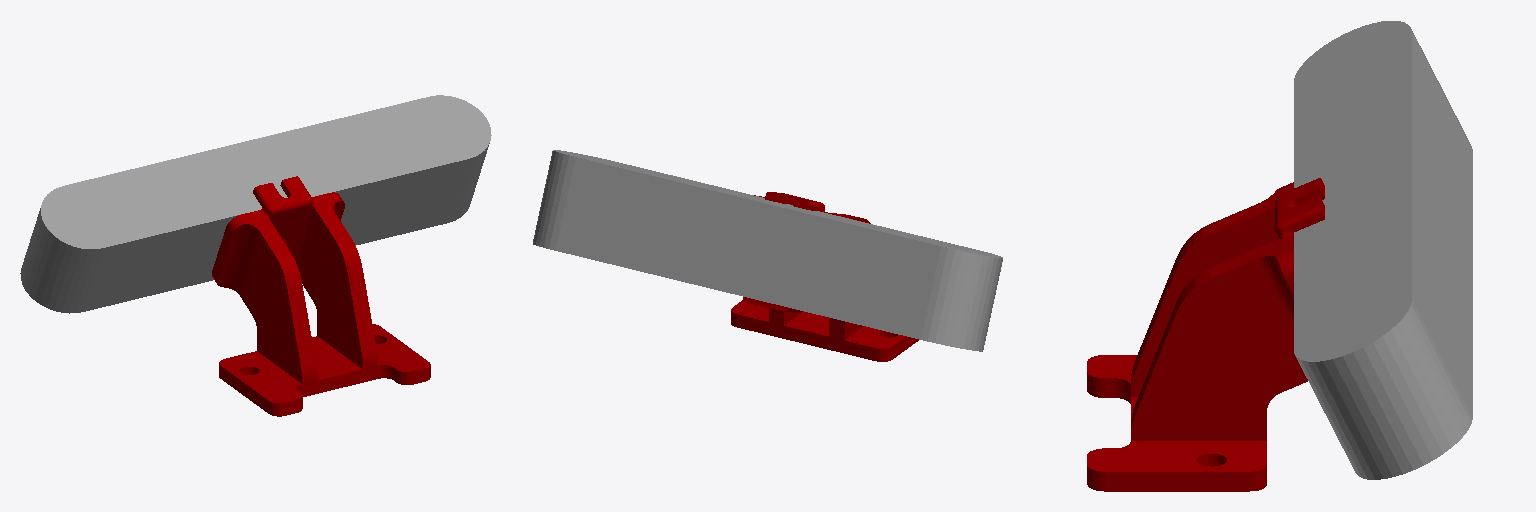
URDF robot description (SingleArm):
<?xml version="1.0" ?>
<!-- @file SingleArm.urdf -->
<!-- @author [author] -->
<!-- @date March 22, 2018 -->
<!-- @brief This file contains the .urdf definition for a single LWA3 arm. -->

<robot name = "SingleArm">

	<link name = "world" />

	<link name = "Bracket"> 
	    <inertial>
		    <!-- The inertial parameters of the Bracket don't matter. Set to zero -->
	      <mass value="0"/>
	      <inertia ixx="0" ixy="0" ixz="0" iyy="0" iyz="0" izz="0"/>
				<!-- offseted with 0.0827 because the origin of the bracket is at the bottom -->
	      <origin xyz="0 0 0"/>
	    </inertial>
		<visual> 
			<geometry> 
				<mesh filename="../scenes/bracket.dae" />
			</geometry> 
		</visual> 
		<collision> 
			<origin xyz="0.0012875 0.0582 -0.0280530"/> 
			<geometry> 
				<box size="0.2815 0.23 0.22611"/> 
			</geometry> 
		</collision> 
	</link>

	<link name="ZedHolder">
		<inertial>
			<mass value="0.01079"/>
			<inertia ixx="1e-05" ixy="1e-05" ixz="1e-05" iyy="1e-05" iyz="1e-05" izz="1e-05"/>
		</inertial>
		<visual>
			<geometry>
				<mesh filename="../scenes/Zed/zed_holder_65.dae"/>
			</geometry>
		</visual>
	</link>
	
	<link name="ZedCamera">
		<inertial>
			<mass value="0.159"/>
			<inertia ixx="0.0003" ixy="1e-05" ixz="1e-05" iyy="0.00039" iyz="1e-05" izz="0.00039"/>
		</inertial>
		<visual>
			<geometry>
				<mesh filename="../scenes/Zed/zed_camera.dae"/>
			</geometry>
		</visual>
	</link>

	<link name = "L1">
	    <inertial>
	        <mass value="7.35"/>
	        <inertia ixx="0.0381" ixy="0.0104" ixz="0" iyy="0.0187" iyz="0" izz="0.0430"/>
	        <origin xyz="0.0217 -0.0691 0"/>
	    </inertial>
	    <visual> <geometry> <mesh filename="../scenes/Schunk/L1.dae" /> </geometry> </visual>
	    <!--collision> <geometry> <mesh filename="../scenes/Schunk/L1.dae" /> </geometry> </collision-->
        <collision> <origin xyz="0.015 -0.080866 0.0"/> <geometry> <box size="0.16 0.29367 0.13188"/> </geometry> </collision>
	</link>

	<link name = "L2">
        <inertial>
            <mass value="6.1405"/>
            <!-- <inertia ixx="0.0504" ixy="0.0006" ixz="0" iyy="0.0178" iyz="0" izz="0.0579"/> -->
	        <inertia ixx="0.0320" ixy="0.0097" ixz="0" iyy="0.0134" iyz="0" izz="0.0350"/>
            <origin xyz="0.0269 -0.0548 0"/>
        </inertial>
		<visual> <geometry> <mesh filename="../scenes/Schunk/L2.dae" /> </geometry> </visual>
		<!--collision> <geometry> <mesh filename="../scenes/Schunk/L2.dae" /> </geometry> </collision-->
		<collision> <origin xyz="0.017042 -0.058309 0.0"/> <geometry> <box size="0.14591 0.24658 0.13"/> </geometry> </collision>
	</link>

	<link name = "L3">
        <inertial>
            <mass value="4.531"/>
            <!-- <inertia ixx="0.0354" ixy="-0.0003" ixz="0" iyy="0.01" iyz="0" izz="0.0394"/> -->
            <inertia ixx="0.0180" ixy="0.005" ixz="0" iyy="0.0084" iyz="0" izz="0.0204"/>
	        <origin xyz="0.0188 -0.00619 0"/>
        </inertial>
		<visual> <geometry> <mesh filename="../scenes/Schunk/L3.dae" /> </geometry> </visual>
		<!--collision> <geometry> <mesh filename="../scenes/Schunk/L3.dae" /> </geometry> </collision-->
		<collision> <origin xyz="0.014000 -0.075113 0.0"/> <geometry> <box size="0.13800 0.26217 0.11189"/> </geometry> </collision>
	</link>

	<link name = "L4">
        <inertial>
            <mass value="3.2245"/>
            <!-- <inertia ixx="0.0209" ixy="0.0003" ixz="0" iyy="0.0067" iyz="0" izz="0.0239"/> -->
            <inertia ixx="0.0133" ixy="0.004" ixz="0" iyy="0.0049" iyz="0" izz="0.0145"/>
	        <origin xyz="0.0238 -0.0484 0"/>
        </inertial>
		<visual> <geometry> <mesh filename="../scenes/Schunk/L4.dae" /> </geometry> </visual>
		<!--collision> <geometry> <mesh filename="../scenes/Schunk/L4.dae" /> </geometry> </collision-->
		<collision> <origin xyz="0.018200 -0.052050 0.0"/> <geometry> <box size="0.12960 0.2141 0.11"/> </geometry> </collision>
	</link>

	<link name = "L5">
        <inertial>
            <mass value="2.318"/>
            <!-- <inertia ixx="0.012" ixy="-0.0002" ixz="0" iyy="0.0035" iyz="0" izz="0.0135"/> -->
            <inertia ixx="0.0063" ixy="0.0017" ixz="0" iyy="0.0029" iyz="0" izz="0.0072"/>
	        <origin xyz="0.0166 -0.0494 0"/>
        </inertial>
		<visual> <geometry> <mesh filename="../scenes/Schunk/L5.dae" /> </geometry> </visual>
		<!--collision> <geometry> <mesh filename="../scenes/Schunk/L5.dae" /> </geometry> </collision-->
        <collision> <origin xyz="0.0145115 -0.0571105 0.0000425"/> <geometry> <box size="0.117977 0.204179 0.089915"/> </geometry> </collision>
	</link>

	<link name = "L6">
        <inertial>
            <mass value="2.318"/>
            <!-- <inertia ixx="0.0104" ixy="0" ixz="0" iyy="0.0041" iyz="0" izz="0.0125"/> -->
            <inertia ixx="0.0071" ixy="0.0020" ixz="0" iyy="0.0029" iyz="0" izz="0.008"/>
	        <origin xyz="0.0232 -0.0377 0"/>
        </inertial>
		<visual> <geometry> <mesh filename="../scenes/Schunk/L6.dae" /> </geometry> </visual>
		<!--collision> <geometry> <mesh filename="../scenes/Schunk/L6.dae" /> </geometry> </collision-->
		<collision> <origin xyz="0.0175015 -0.0481615 0.0"/> <geometry> <box size="0.111977 0.185277 0.089"/> </geometry> </collision>
	</link>

	<link name = "L7_EFF">
	    <inertial>
		    <mass value="2.3838"/>
		    <inertia ixx="0.0104" ixy="0" ixz="0" iyy="0.0108" iyz="0" izz="0.0027"/>
		    <!-- <inertia ixx="0.0126" ixy="0" ixz="0" iyy="0.013" iyz="0" izz="0.0027"/> -->
			<!-- An addition of 4.05 cms from the end of Schunk gripper to space between two halves of ft -->
	        <origin xyz="0 0 0.1055"/>
	    </inertial>
		<visual> <geometry> <mesh filename="../scenes/Schunk/L7.dae" /> </geometry> <!--origin rpy="0 0 1.0"/--> </visual>
        <!-- origin on below line is orginally commented out -->
		<!--collision> <geometry> <mesh filename="../scenes/Schunk/L7.dae" /> </geometry> <origin rpy="0 0 1.0"/> </collision-->
		<collision> <origin xyz="0.0 -0.0 0.02615" rpy="0.0 0.0 1.5708"/> <geometry> <box size="0.08 0.112 0.2025"/> </geometry> </collision>
	</link>

	<!-- ======================================================================================================== -->
	<!-- ============================================ Joints ==================================================== -->
	<!-- ======================================================================================================== -->

	<joint name = "fix_arm_to_world" type="fixed">
		<parent link = "world"/>
		<child link = "Bracket"/>
	</joint>

	<joint name="JZedHolder" type="fixed"> <parent link="Bracket" /> <child link="ZedHolder" />
		<origin xyz="0.0 0.1527 0.08486" rpy="0 0 0" />
	</joint>
	
	<joint name="JZedCamera" type="fixed"> <parent link="ZedHolder" /> <child link="ZedCamera" />
		<origin xyz="0.0 0.02662 0.04629" rpy="-1.1345 0 0" />
	</joint>

<!-- -1.1345 -->
	<joint name="LJ1" type="revolute"> <parent link="Bracket" /> <child link="L1" />
		<origin xyz = "0.2823 0.0845 0" rpy="0 3.1416 -1.5708" />
		<axis xyz="0 -1 0" /> <limit effort="1000" lower="-3.1416" upper="3.1416" velocity="0.1" />
	</joint>

	<joint name="LJ2" type="revolute"> <parent link="L1" /> <child link="L2" />
		<origin xyz="0 0.0 0" rpy="2.5 3.14 0" />
		<axis xyz="-1 0 0" /> <limit effort="1000" lower="-2.094" upper="2.094" velocity="0.1" />
	</joint>

	<joint name="LJ3" type="revolute"> <parent link="L2" /> <child link="L3" />
		<origin xyz="0 -0.328 0" rpy="-3.1416 -3.1416 0" />
		<axis xyz="0 -1 0" /> <limit effort="1000" lower="-4.7124" upper="4.7124" velocity="0.1" />
	</joint>

	<joint name="LJ4" type="revolute"> <parent link="L3" /> <child link="L4" />
		<origin xyz="0 0 0" rpy="2.75 3.1416 0" />
		<axis xyz="-1 0 0" /> <limit effort="1000" lower="-2.094" upper="2.094" velocity="0.1" />
	</joint>

	<joint name="LJ5" type="revolute"> <parent link="L4" /> <child link="L5" />
		<origin xyz="0 -0.2765 0" rpy="3.1416 3.1416 0" />
		<axis xyz="0 -1 0" /> <limit effort="1000" lower="-4.7124" upper="4.7124" velocity="0.1" />
	</joint>

	<joint name="LJ6" type="revolute"> <parent link="L5" /> <child link="L6" />
		<origin xyz="0 0 0" rpy="-1.57 0 3.1416" />
		<axis xyz="-1 0 0" /> <limit effort="1000" lower="-2.094" upper="2.094" velocity="0.1" />
	</joint>

	<!-- For some reason, I had to negate the axis to make sure the motor turns like the others -->
	<joint name="LJFT" type="revolute"> <parent link="L6" /> <child link="L7_EFF" />
		<origin xyz="0 -0.200 0" rpy="1.5708 4.7124 0" />
		<axis xyz="0 0 -1" /> <limit effort="1000" lower="-4.7124" upper="4.7124" velocity="0.1" />
	</joint>

</robot>

--- Facts derived from the render (not from the file) ---
3 views of the same robot in one strip: view 1: azimuth 30°, elevation 25°; view 2: azimuth 150°, elevation 25°; view 3: azimuth 270°, elevation 25° (orthographic).
Model SingleArm with 11 links and 10 joints (7 revolute, 3 fixed), rooted at world, posed all joints at 0.
Visible links, largest first — view 1: ZedCamera, ZedHolder; view 2: ZedCamera, ZedHolder; view 3: ZedCamera, ZedHolder.
Boxes of the visible links, left/top/right/bottom form: ZedCamera: left=20, top=95, right=491, bottom=313; ZedHolder: left=212, top=176, right=430, bottom=416; ZedCamera: left=533, top=150, right=1002, bottom=351; ZedHolder: left=731, top=192, right=918, bottom=361; ZedCamera: left=1294, top=21, right=1472, bottom=479; ZedHolder: left=1087, top=178, right=1324, bottom=491.
Size in the robot's own frame: 0.175 by 0.0885 by 0.0676 metres.
2 mesh visuals loaded from 10 distinct referenced files (2 Collada DAE); not drawn: 8 (reference not matched to a file when rendering).